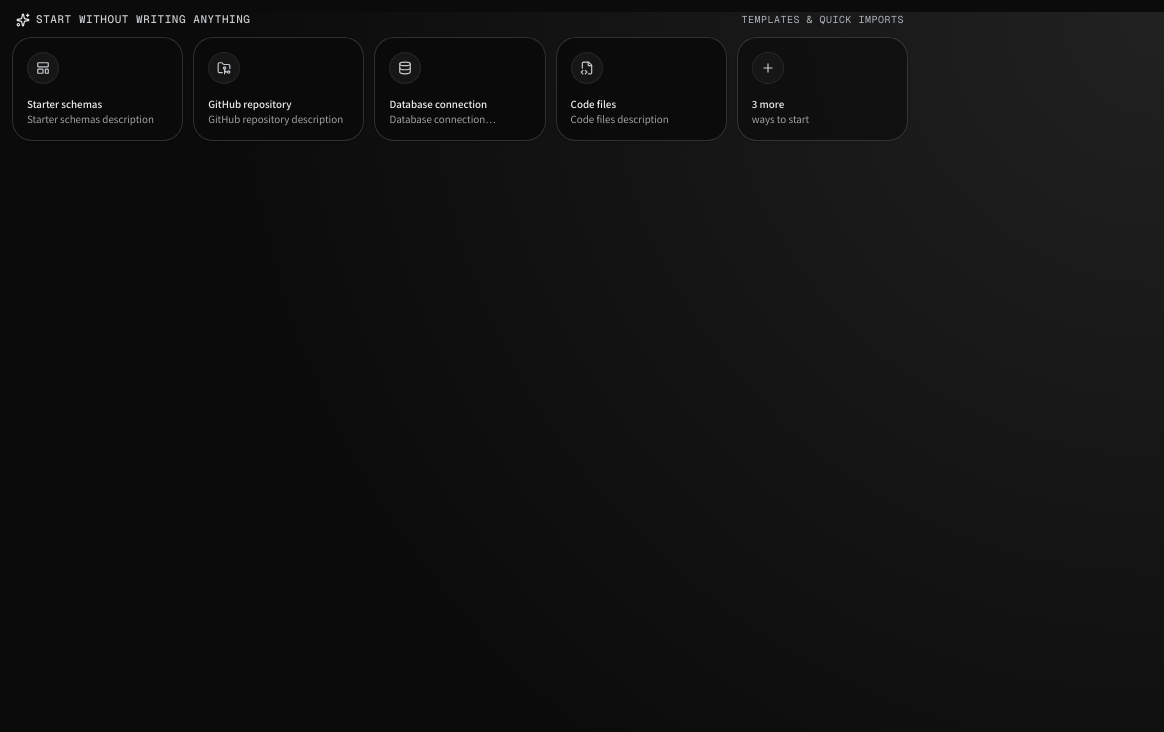
Test: SourceStrip › reports a source chosen from the overflow and closes it
Click the button "3 more ways to start".
click(822, 89)  # box [737, 37, 908, 141]
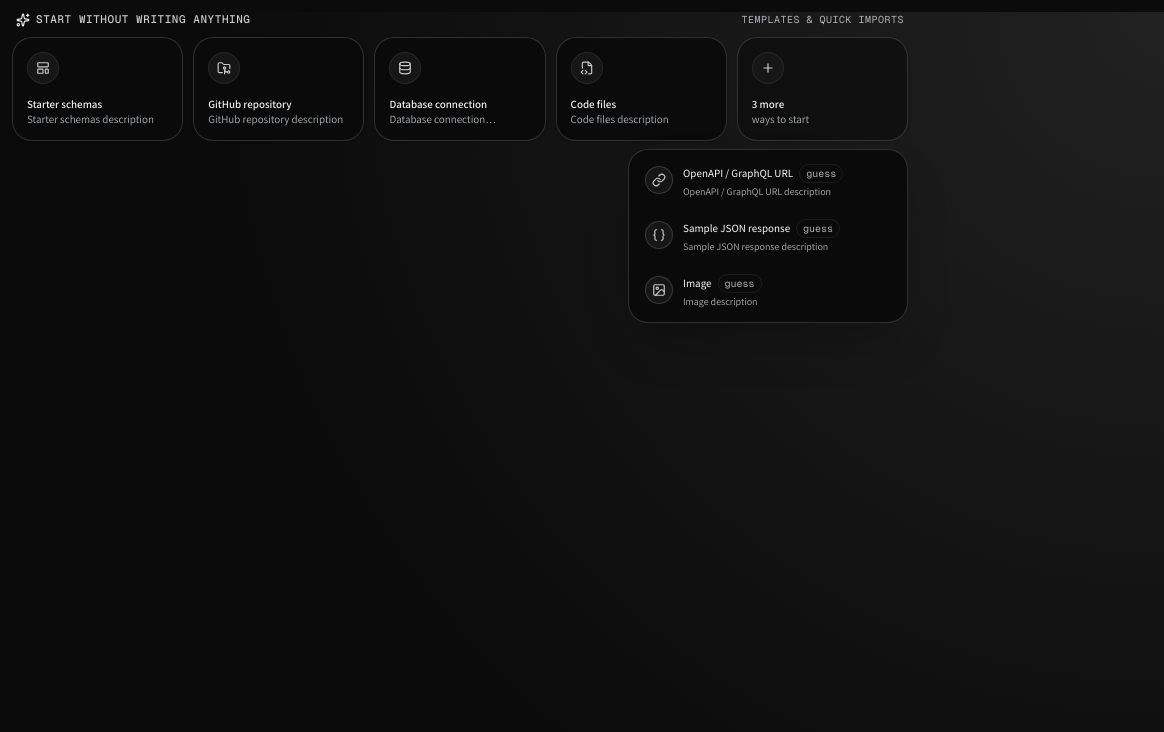
Click the text "Image".
click(697, 283)  # box [683, 276, 712, 290]
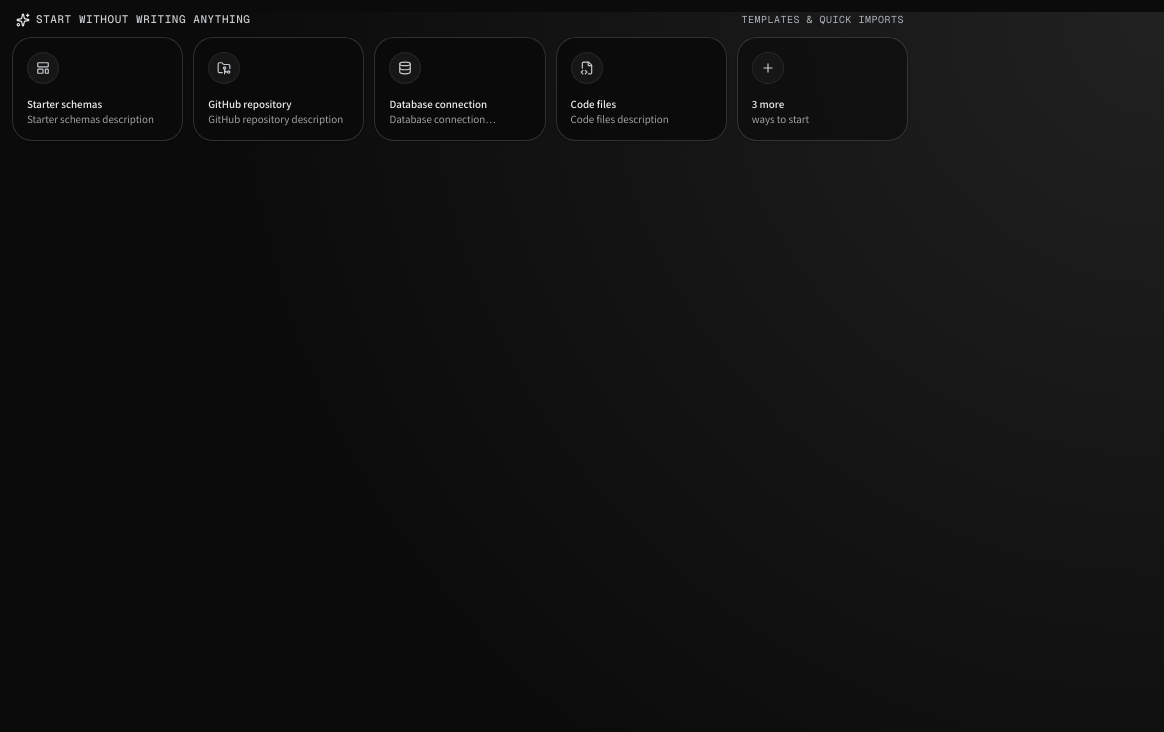
Check: the menu item "Sample JSON response" is gone
